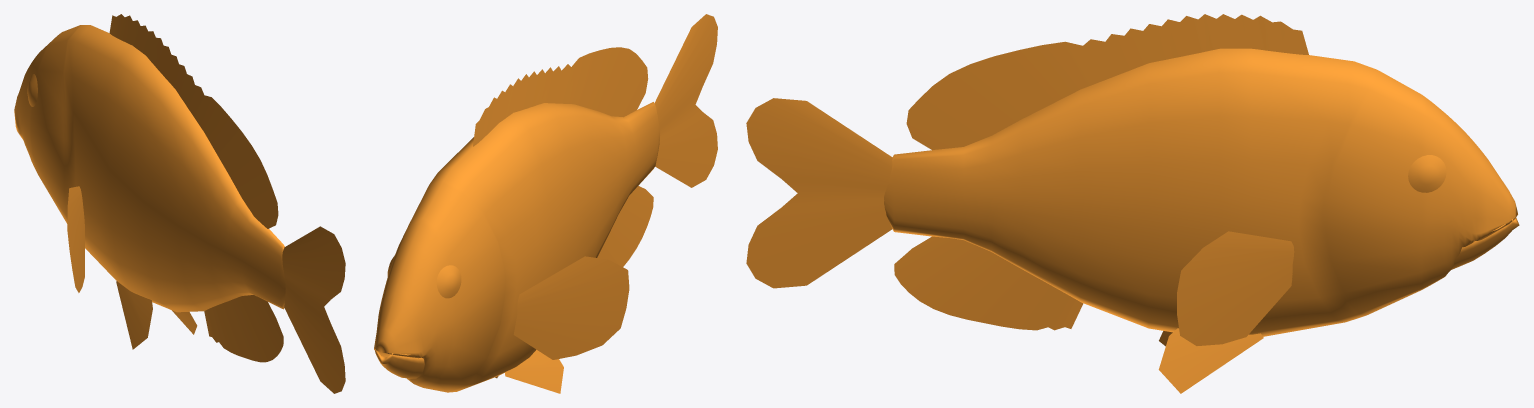
Rendered from garibaldi_game.glb.
The picture shows the model from 3 angles, left to right: view 1: azimuth 30°, elevation 25°; view 2: azimuth 150°, elevation 25°; view 3: azimuth 270°, elevation 25°; orthographic projection. The views are drawn at different scales.
Parts seen in each view (by area): view 1: garibaldi_game; view 2: garibaldi_game; view 3: garibaldi_game.
Part boxes in pixels (<box>): garibaldi_game: <box>14,14,345,393</box>; garibaldi_game: <box>374,14,717,393</box>; garibaldi_game: <box>746,14,1519,393</box>.
Bounding box in the file's own units: 0.1027 × 0.1556 × 0.301.
